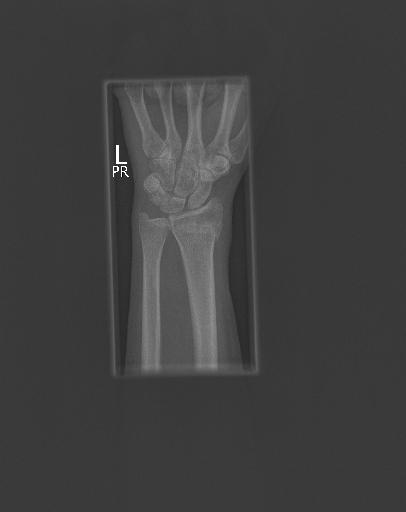fractured: (165, 214, 233, 246)
